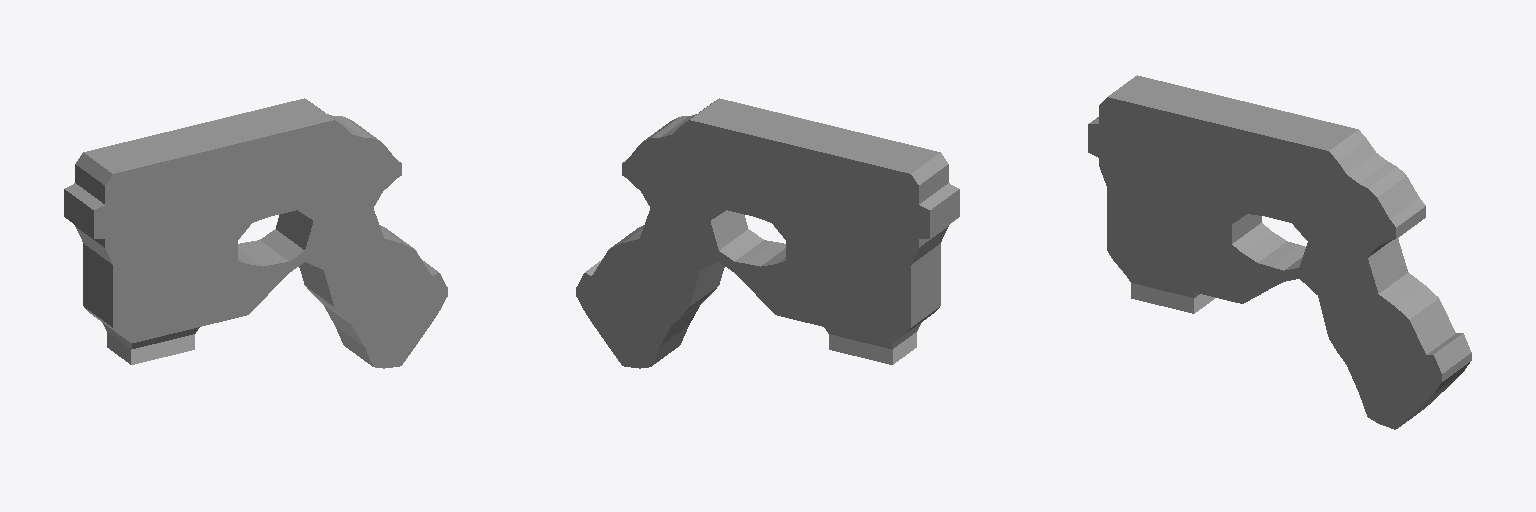
Rendered from model_standardpistol.obj.
3 renders of one model, left to right at view 1: azimuth 30°, elevation 25°; view 2: azimuth 150°, elevation 25°; view 3: azimuth 330°, elevation 25°, orthographic.
Visible parts, largest first — view 1: Cube, Cube.001; view 2: Cube, Cube.001; view 3: Cube, Cube.001.
Part boxes in pixels (bbox=[...]): Cube: bbox=[64, 98, 447, 368]; Cube.001: bbox=[107, 332, 194, 364]; Cube: bbox=[576, 98, 959, 368]; Cube.001: bbox=[829, 332, 916, 364]; Cube: bbox=[1088, 75, 1471, 429]; Cube.001: bbox=[1131, 283, 1214, 313].
Bounding box in the file's own units: 8.15 × 5.78 × 1.19.